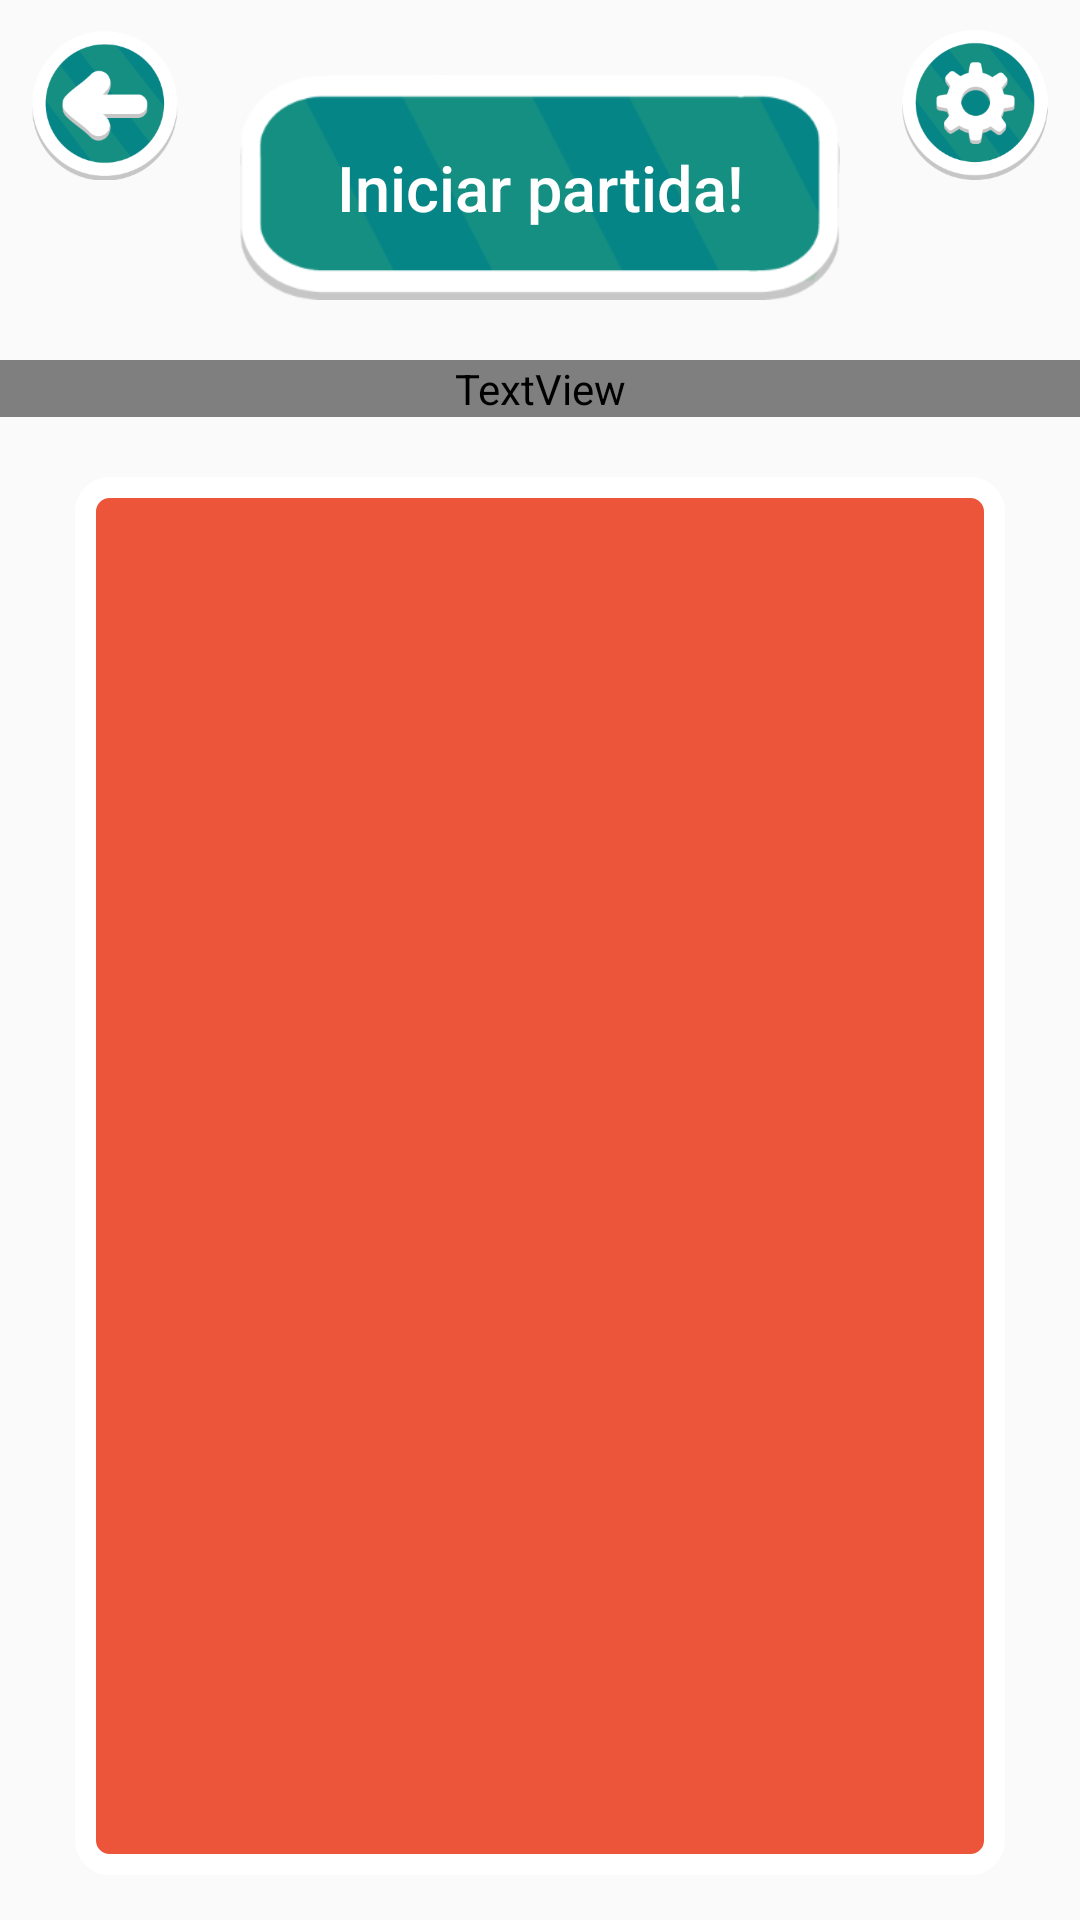

Point at icon controls on the screen. Image size 1080 × 1920, points as (x=x, y=y).
back: (x=105, y=112)
options: (x=975, y=111)
